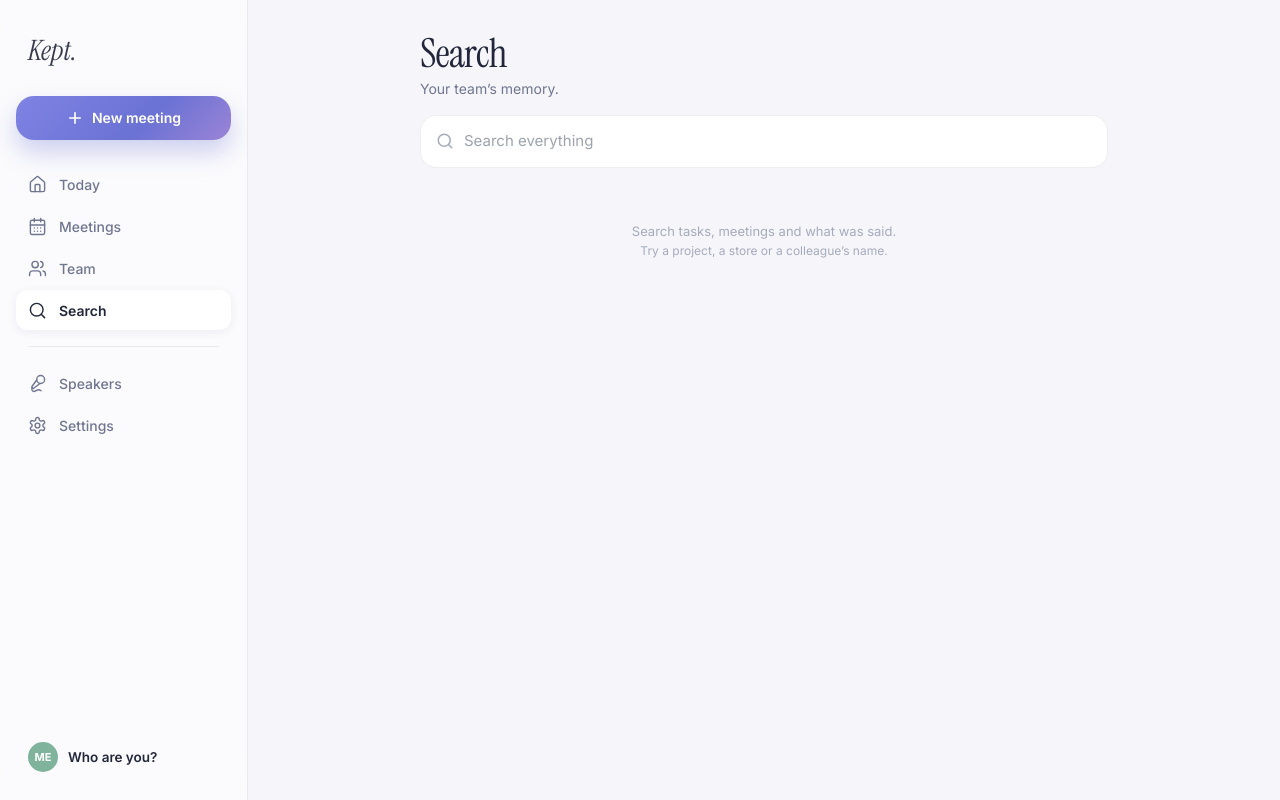
it: Search › finds tasks here and meetings on the server, linking to the moment it was said
In the field labelled "Search": (764, 141) [420,115,1108,168], type "bhiwandi"
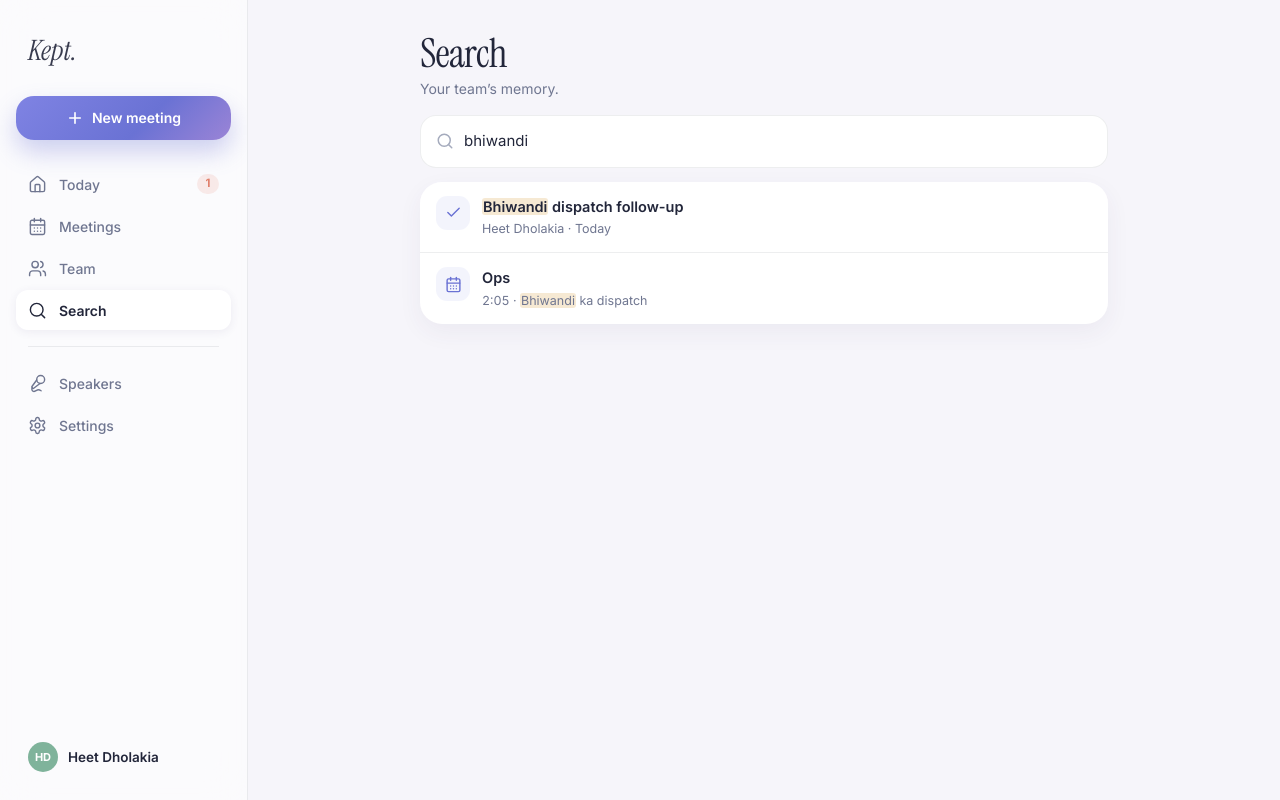
Now the 1st text "Bhiwandi" is shown, box [482,198,548,214]
Now the link "Ops 2:05 · Bhiwandi ka dispatch" is shown, box [420,252,1108,324]
